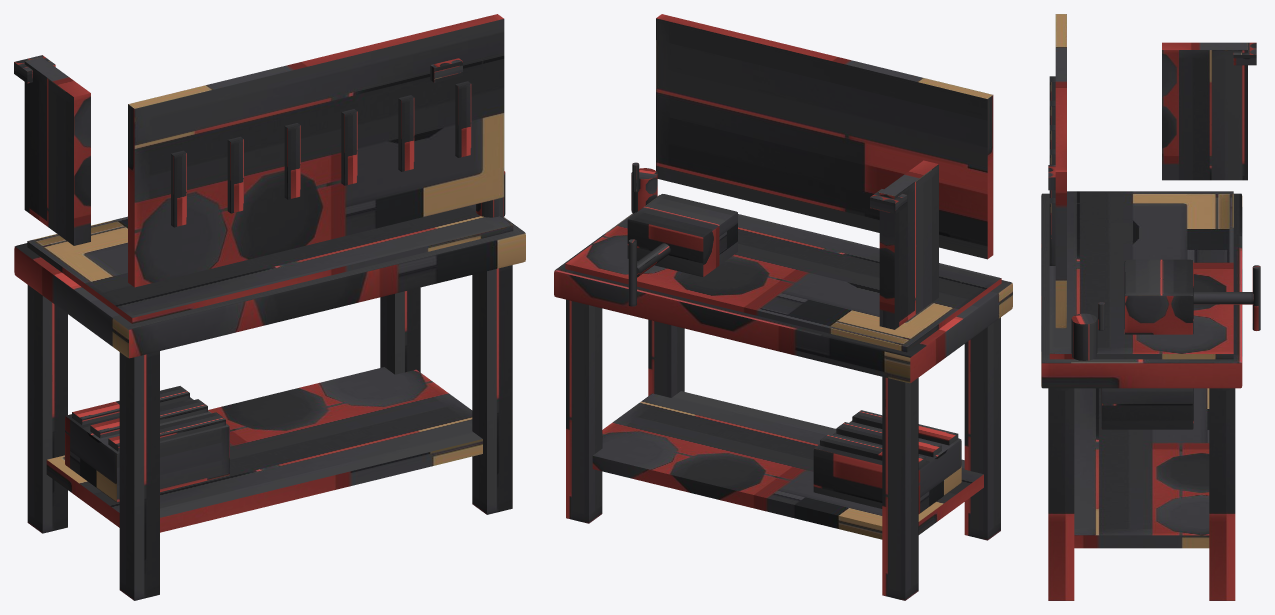
Rendered from DD_repair_bench.glb.
3 renders of one model, left to right at view 1: azimuth 30°, elevation 25°; view 2: azimuth 150°, elevation 25°; view 3: azimuth 270°, elevation 25°, orthographic. The views are drawn at different scales.
Parts seen in each view (by area): view 1: DD_repair_bench; view 2: DD_repair_bench; view 3: DD_repair_bench.
Boxes of the visible parts, bbox=[...] form: DD_repair_bench: bbox=[14, 14, 525, 600]; DD_repair_bench: bbox=[554, 14, 1012, 600]; DD_repair_bench: bbox=[1041, 14, 1260, 600].
Bounding box in the file's own units: 1.41 × 1.64 × 0.764.
Materials: 1 (1 with a texture image).
